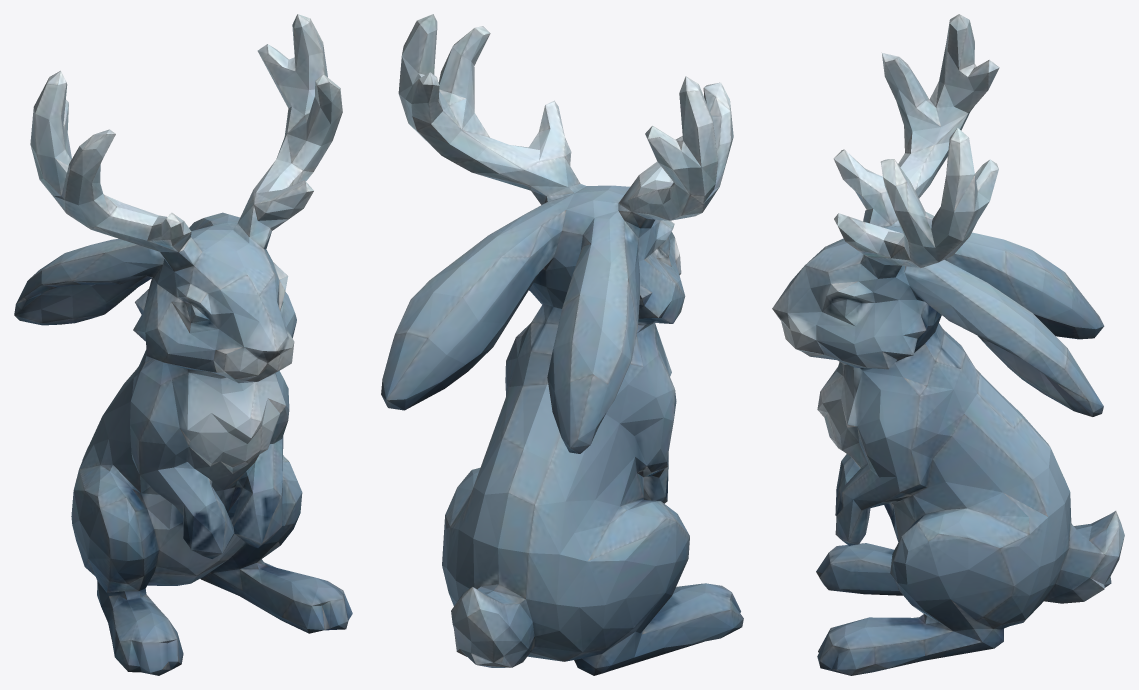
File: foe_frostJackalope.glb
The picture shows the model from 3 angles, left to right: view 1: azimuth 30°, elevation 25°; view 2: azimuth 150°, elevation 25°; view 3: azimuth 270°, elevation 25°; orthographic projection. The views are drawn at different scales.
Parts seen in each view (by area): view 1: tripo_node_342a8fd1-0254-4fb4-afd3-5cee92f765ad.001; view 2: tripo_node_342a8fd1-0254-4fb4-afd3-5cee92f765ad.001; view 3: tripo_node_342a8fd1-0254-4fb4-afd3-5cee92f765ad.001.
Part boxes in pixels (x1,y1,x2,y2): tripo_node_342a8fd1-0254-4fb4-afd3-5cee92f765ad.001: (14,14,352,675); tripo_node_342a8fd1-0254-4fb4-afd3-5cee92f765ad.001: (381,14,743,675); tripo_node_342a8fd1-0254-4fb4-afd3-5cee92f765ad.001: (772,14,1124,675).
Bounding box in the file's own units: 0.5451 × 0.9992 × 0.5786.
Materials: 1 (1 with a texture image).
